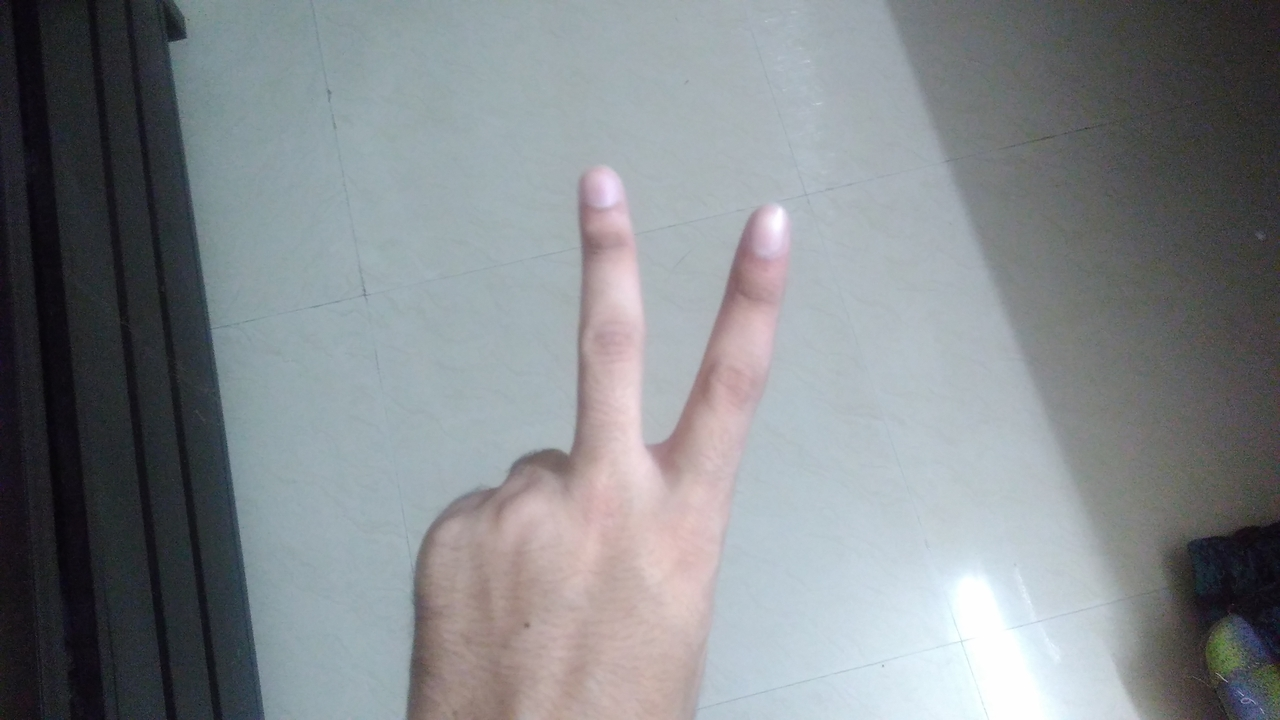fingertip: (736, 194, 800, 258), (572, 160, 636, 220)
